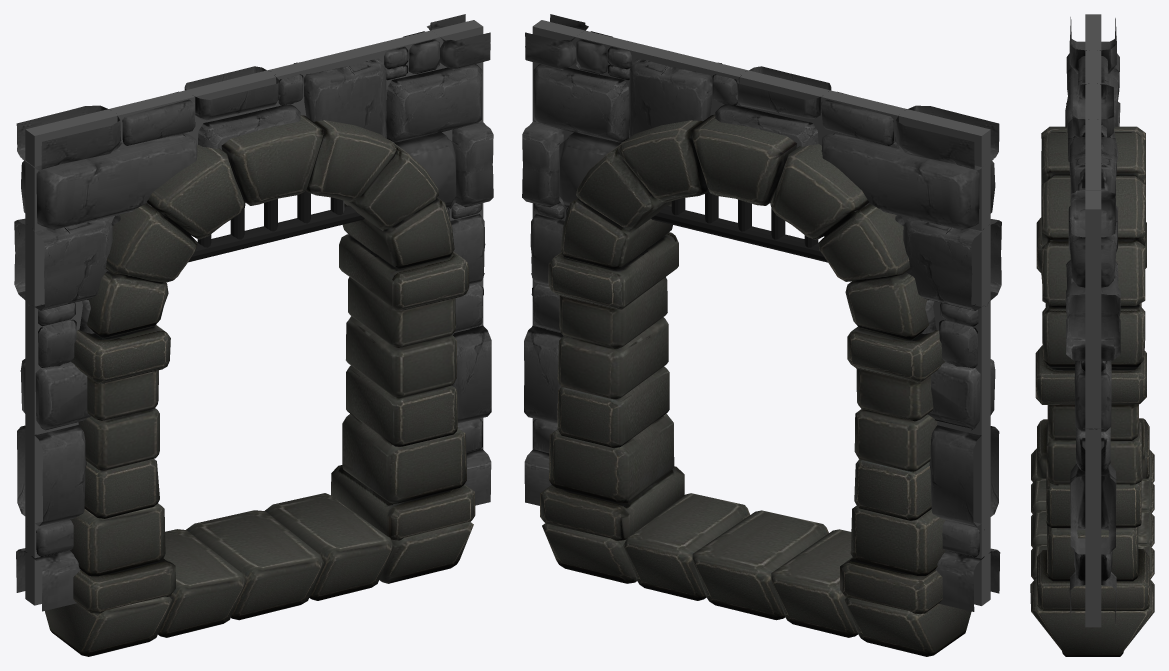
File: Arch_05_BarsTop.fbx
The picture shows the model from 3 angles, left to right: view 1: azimuth 30°, elevation 25°; view 2: azimuth 150°, elevation 25°; view 3: azimuth 270°, elevation 25°; orthographic projection. The views are drawn at different scales.
Parts seen in each view (by area): view 1: Arch_05_Bars; view 2: Arch_05_Bars; view 3: Arch_05_Bars.
Boxes of the visible parts, x1=… form: Arch_05_Bars: x1=14, y1=14, x2=493, y2=656; Arch_05_Bars: x1=522, y1=14, x2=1001, y2=656; Arch_05_Bars: x1=1030, y1=14, x2=1154, y2=656.
Size of the model in its own units: 302 by 334 by 80.96.
